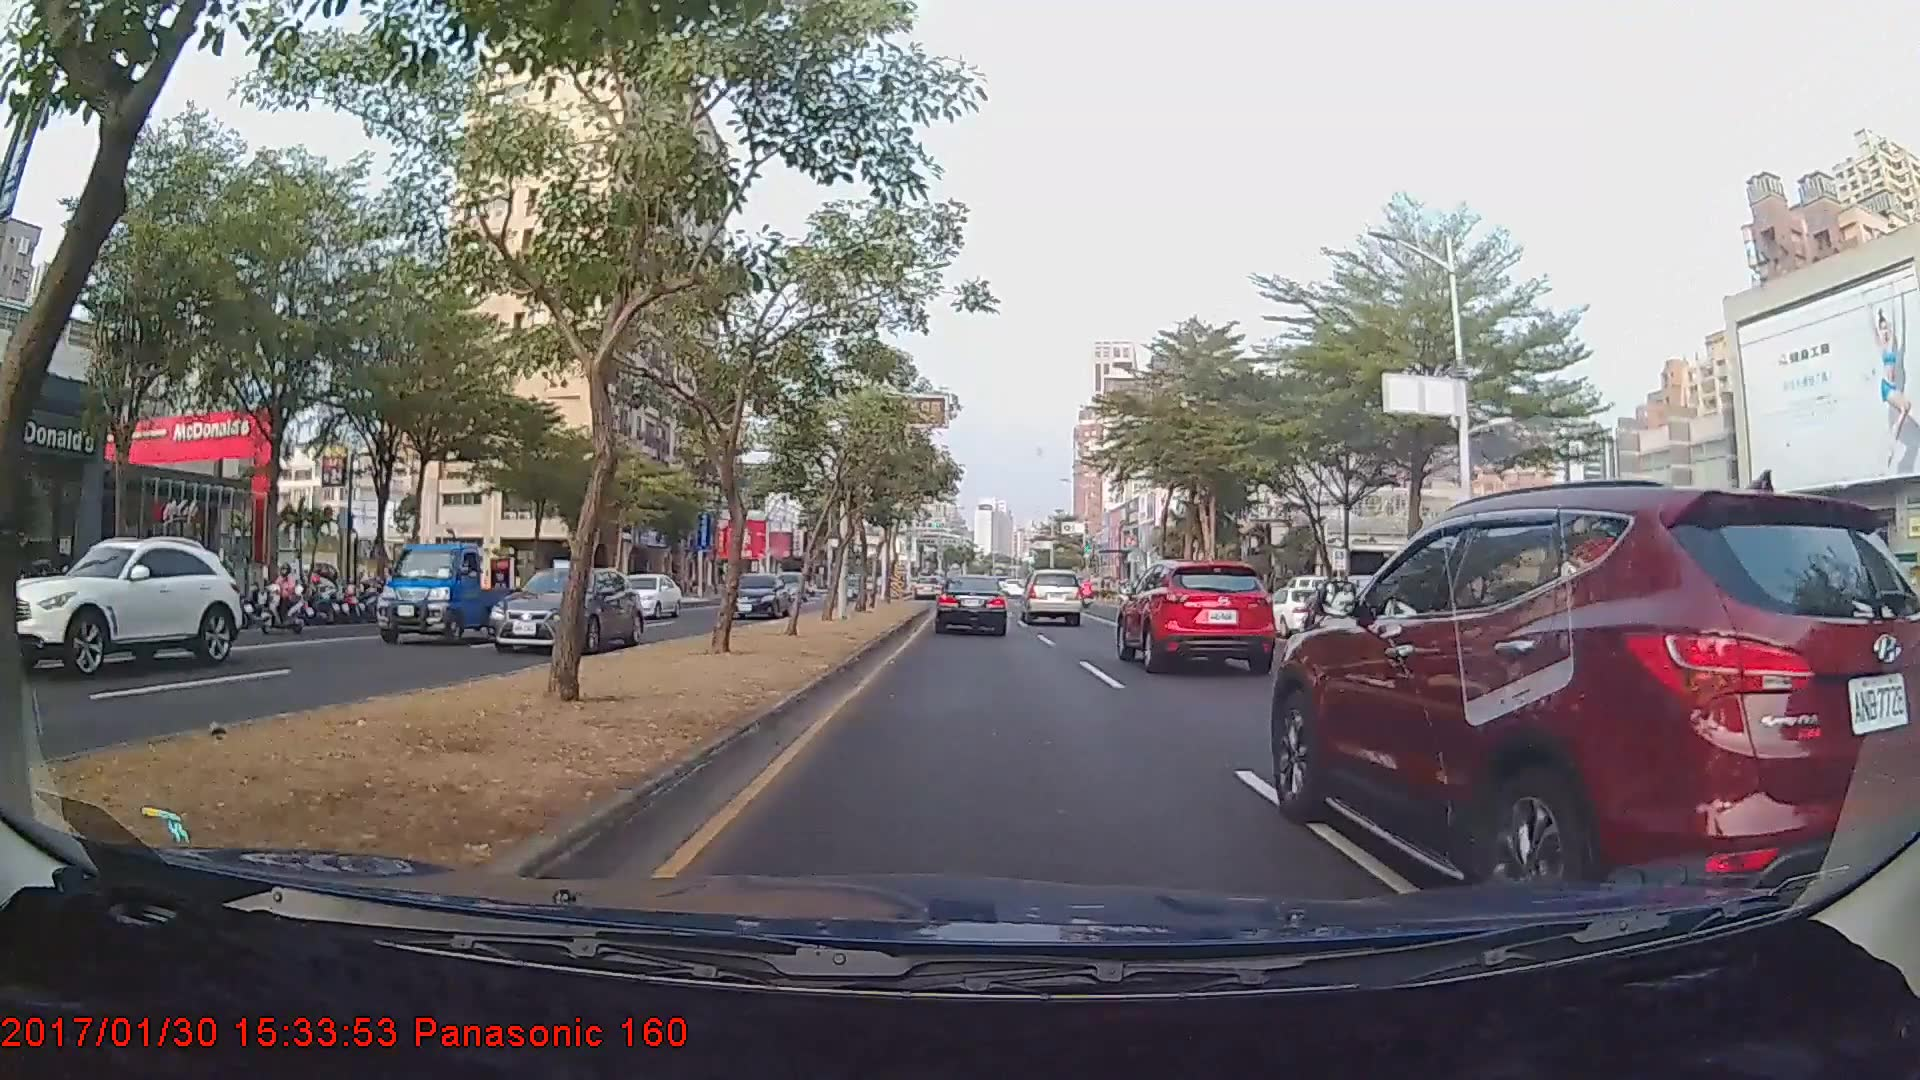rider: (255, 561, 315, 638)
vehicle: (1269, 482, 1915, 953), (0, 537, 249, 676), (1116, 562, 1276, 677), (369, 541, 533, 645), (482, 565, 639, 654), (934, 572, 1009, 637), (1249, 585, 1339, 637), (1021, 568, 1083, 626), (606, 572, 683, 619), (724, 572, 791, 622), (912, 574, 941, 600)
